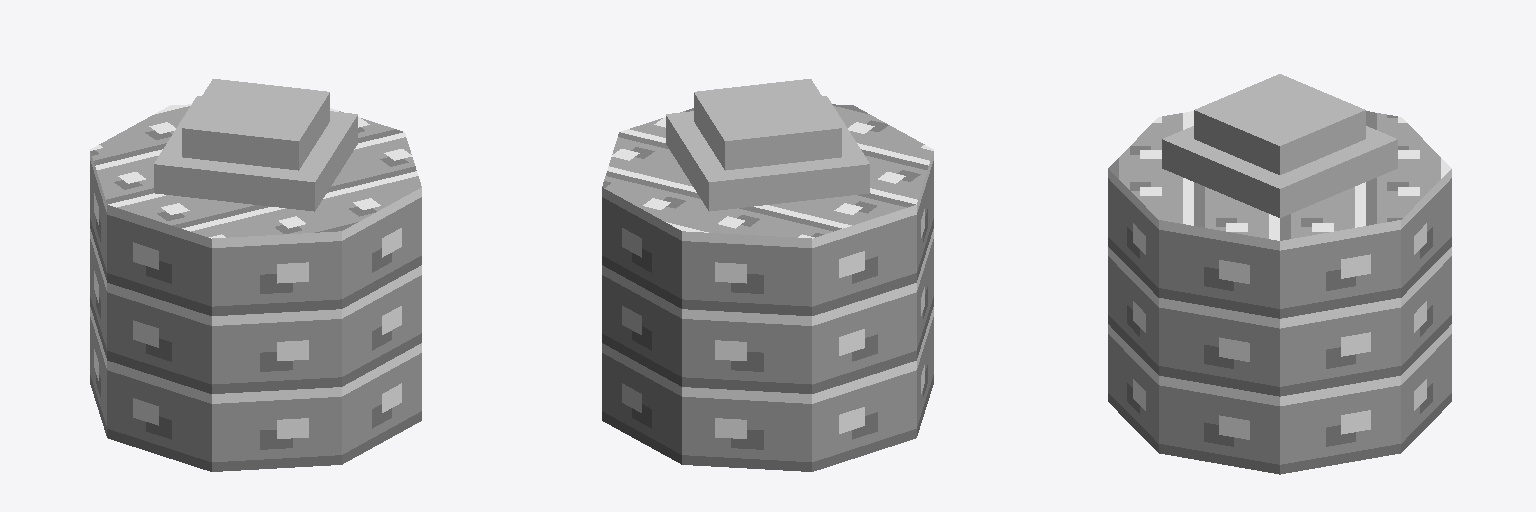
The picture shows the model from 3 angles: view 1: azimuth 30°, elevation 25°; view 2: azimuth 150°, elevation 25°; view 3: azimuth 270°, elevation 25°; orthographic projection.
Visible parts, largest first — view 1: Cube; view 2: Cube; view 3: Cube.
Boxes of the visible parts, <box> form: Cube: <box>90,79,421,471</box>; Cube: <box>602,79,933,471</box>; Cube: <box>1108,74,1451,474</box>.
Size of the model in its own units: 2 by 1.88 by 2.
2 materials, 1 textured.